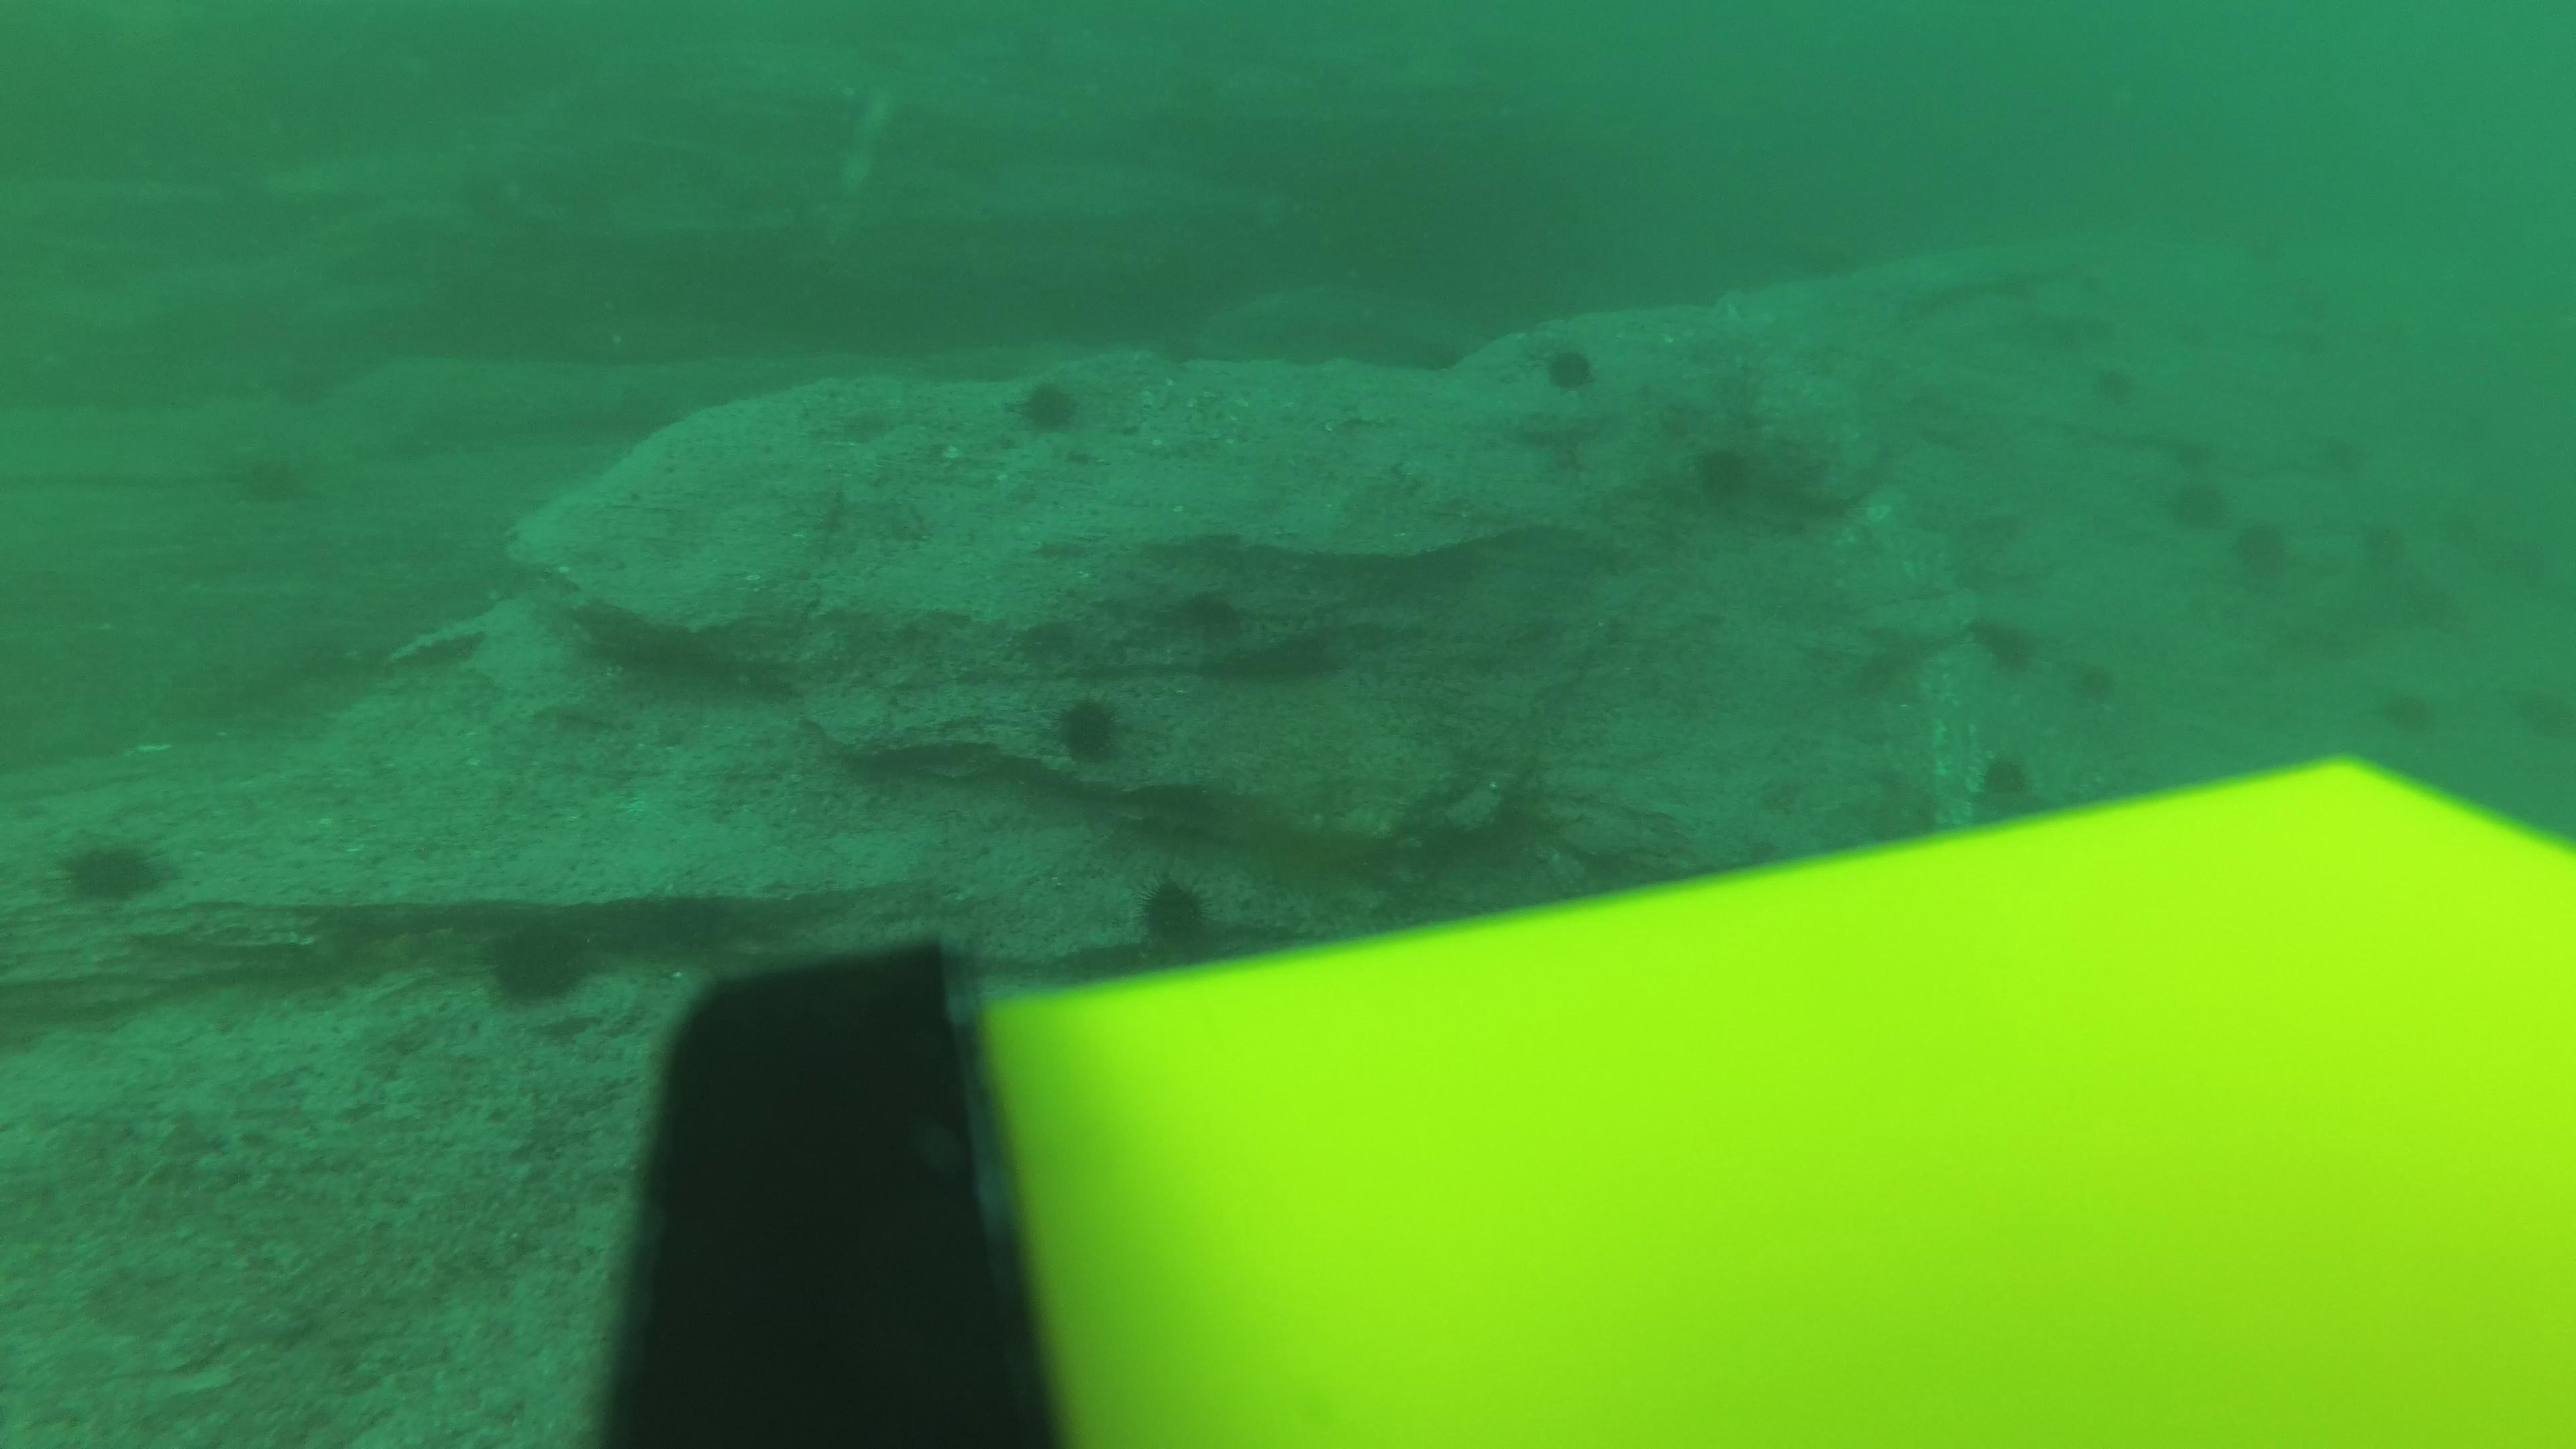echinus: (474, 911, 600, 1012), (50, 823, 175, 913), (1127, 870, 1228, 961), (1042, 686, 1138, 770), (221, 441, 318, 513), (1684, 435, 1766, 517), (1005, 370, 1092, 442), (1966, 747, 2045, 819), (2224, 513, 2298, 589), (1964, 607, 2043, 678), (2158, 469, 2233, 538), (2500, 676, 2576, 741), (2369, 679, 2445, 743), (1171, 580, 1249, 642), (1534, 336, 1603, 396), (2358, 518, 2417, 571), (2419, 575, 2477, 628), (2284, 280, 2342, 333), (2084, 361, 2141, 414), (2243, 230, 2302, 281), (2321, 433, 2367, 478), (2445, 515, 2493, 552), (2079, 656, 2120, 699), (2082, 315, 2123, 352), (2074, 272, 2114, 306)
